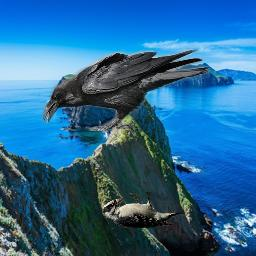Crow: (43, 49, 210, 131)
Woodpecker: (103, 192, 185, 228)
